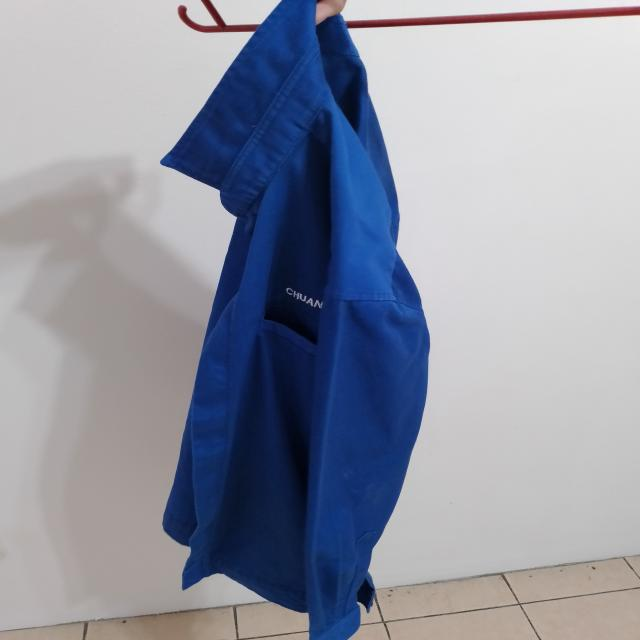person_without_labcoat: (162, 0, 429, 640)
